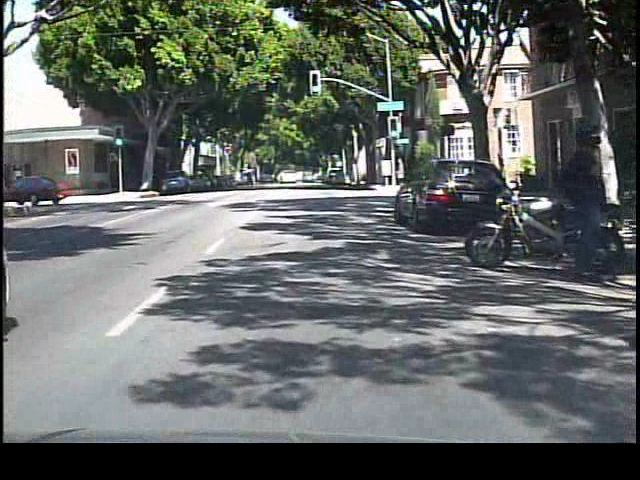person: (554, 129, 607, 288), (391, 155, 408, 191)
